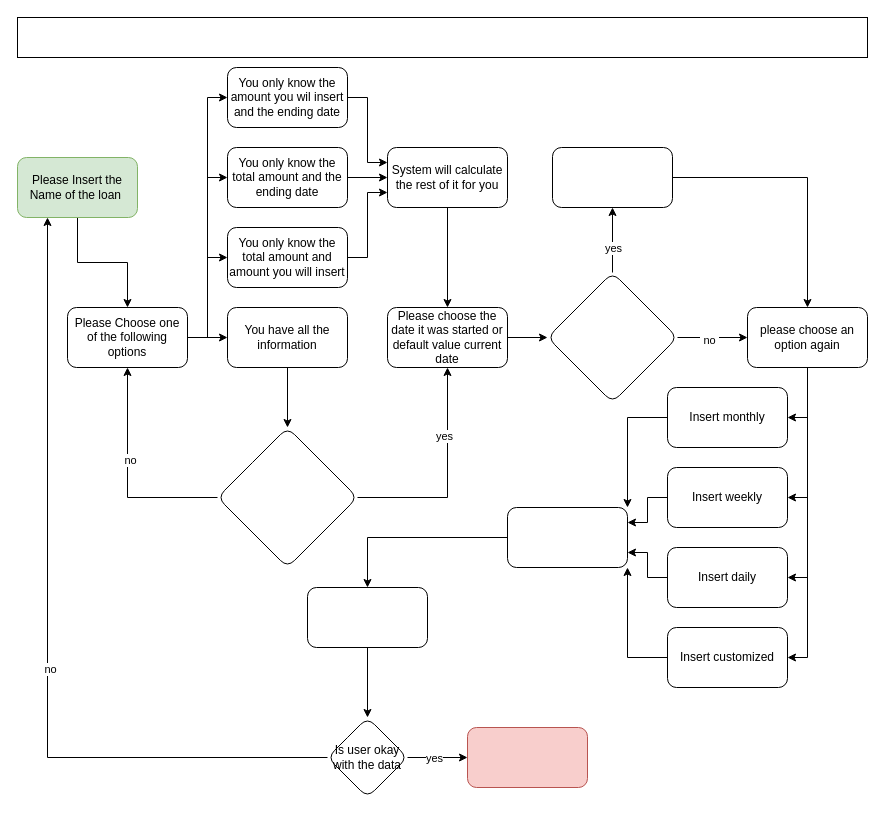
The diagram is 885 pixels wide and 815 high, and some of its shapes have lost their labels. Each missing label, with the centre of its shape:
end: the point at 527,757
Have yu already inserted an amount in it: the point at 612,337
Is everything working fine with each other: the point at 287,497
Show the data to user top verify: the point at 367,617
System will calculate: the point at 567,537
System will calculate it again: the point at 612,177
This is not a flowchart this is just for guidence: the point at 442,37
